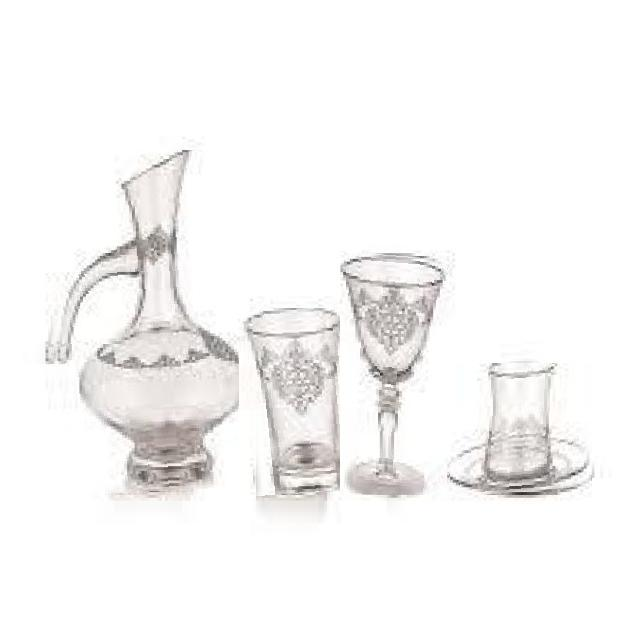Glass: (42, 150, 239, 497), (340, 252, 448, 496), (447, 363, 597, 498), (237, 308, 340, 496)
